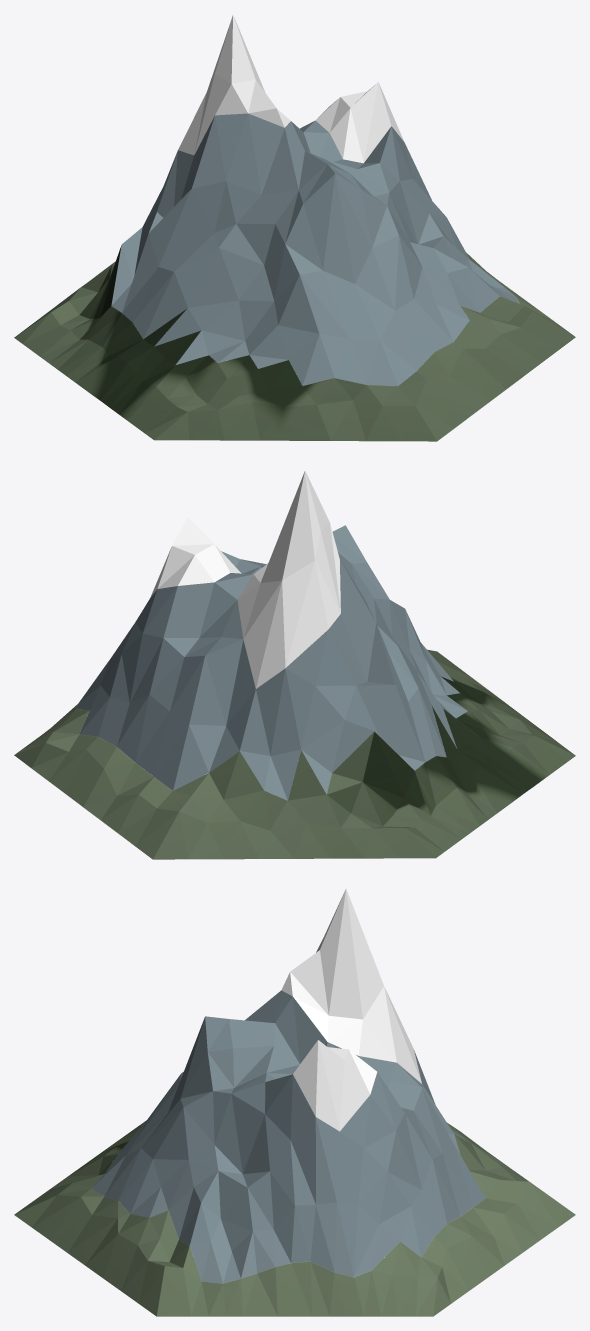
Rendered from mountain_linear.glb.
3 renders of one model, top to bottom at view 1: azimuth 30°, elevation 25°; view 2: azimuth 150°, elevation 25°; view 3: azimuth 270°, elevation 25°, orthographic.
Visible parts, largest first — view 1: Plane.066; view 2: Plane.066; view 3: Plane.066.
Boxes of the visible parts, x1,y1,x2,y2 form: Plane.066: [14, 14, 575, 441]; Plane.066: [14, 471, 575, 859]; Plane.066: [14, 888, 575, 1316].
Bounding box in the file's own units: 2.45 × 1.74 × 2.86.
3 materials, 1 textured.
